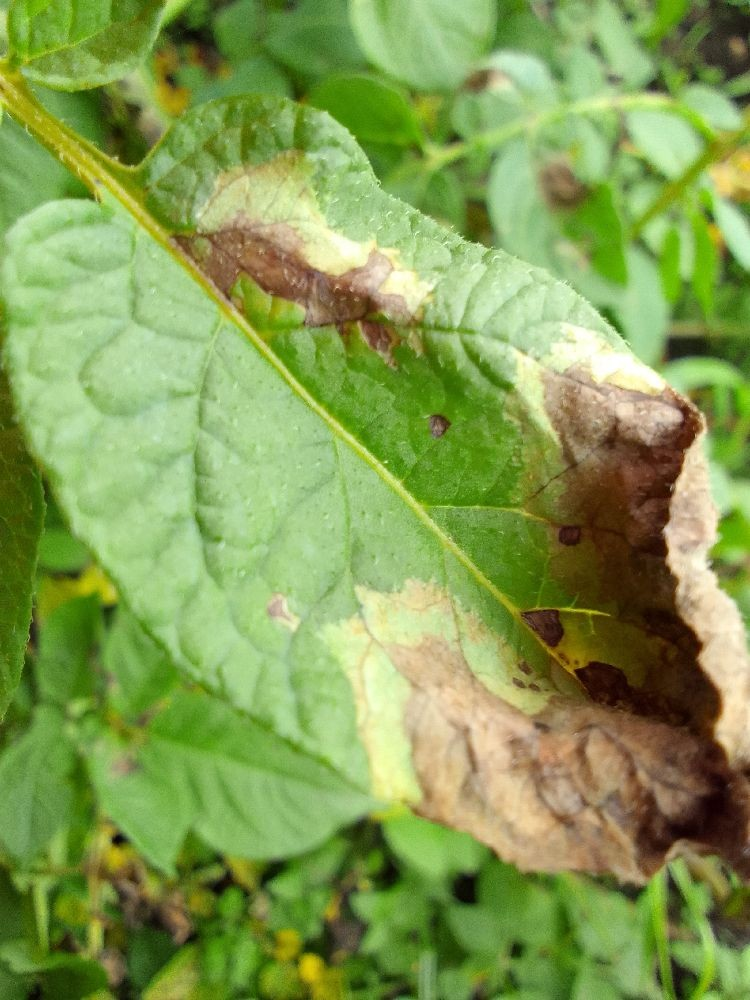late_blight: (382, 352, 749, 961), (137, 179, 454, 397), (47, 801, 306, 1000), (645, 0, 750, 100)
